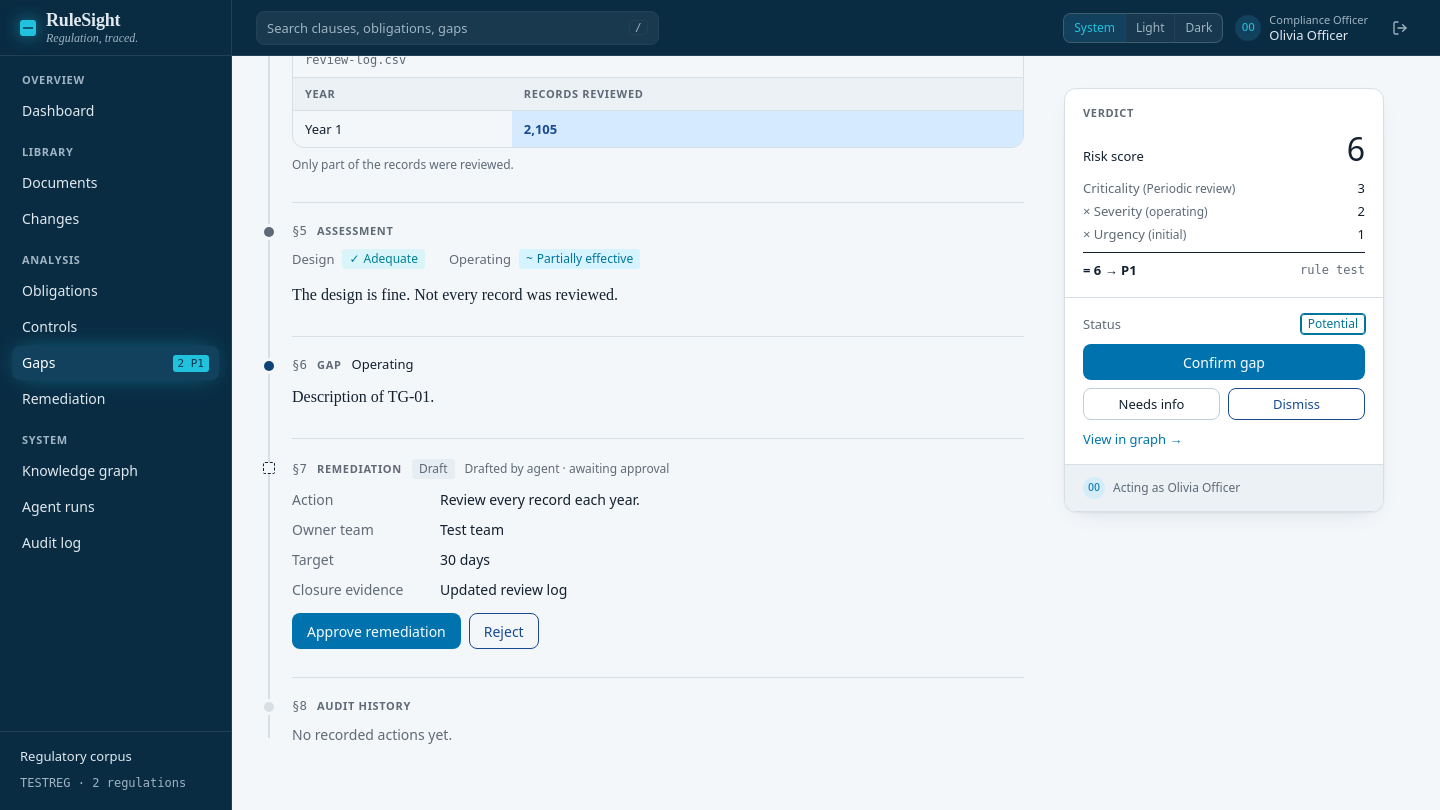
Test case: Gap trace › records an approval in the audit history under the acting user
(page scrolled)
Click the button "Approve remediation" at [376, 631], box [292, 613, 461, 649]
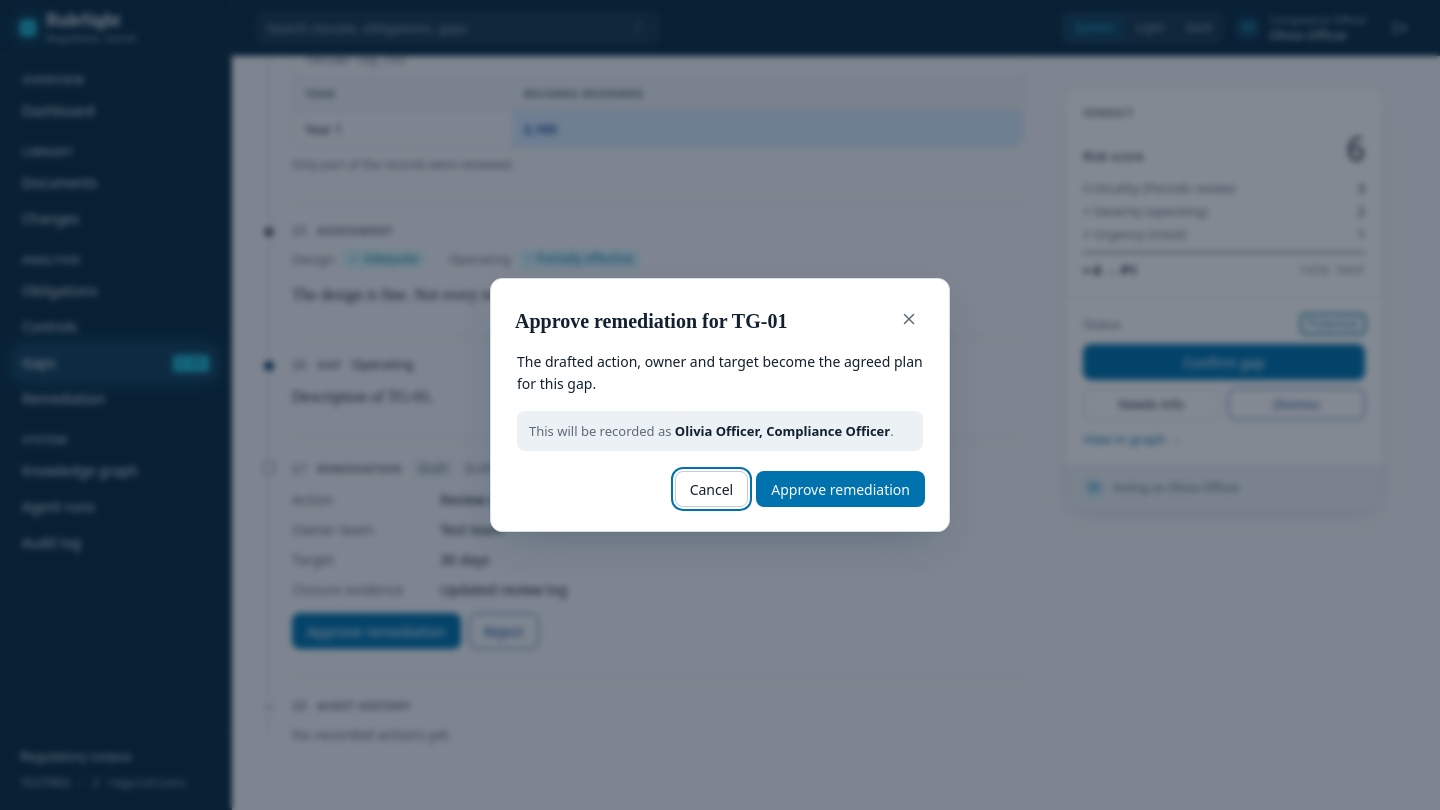
Click the button "Approve remediation" at [841, 489], box [756, 471, 925, 507]
(page scrolled)
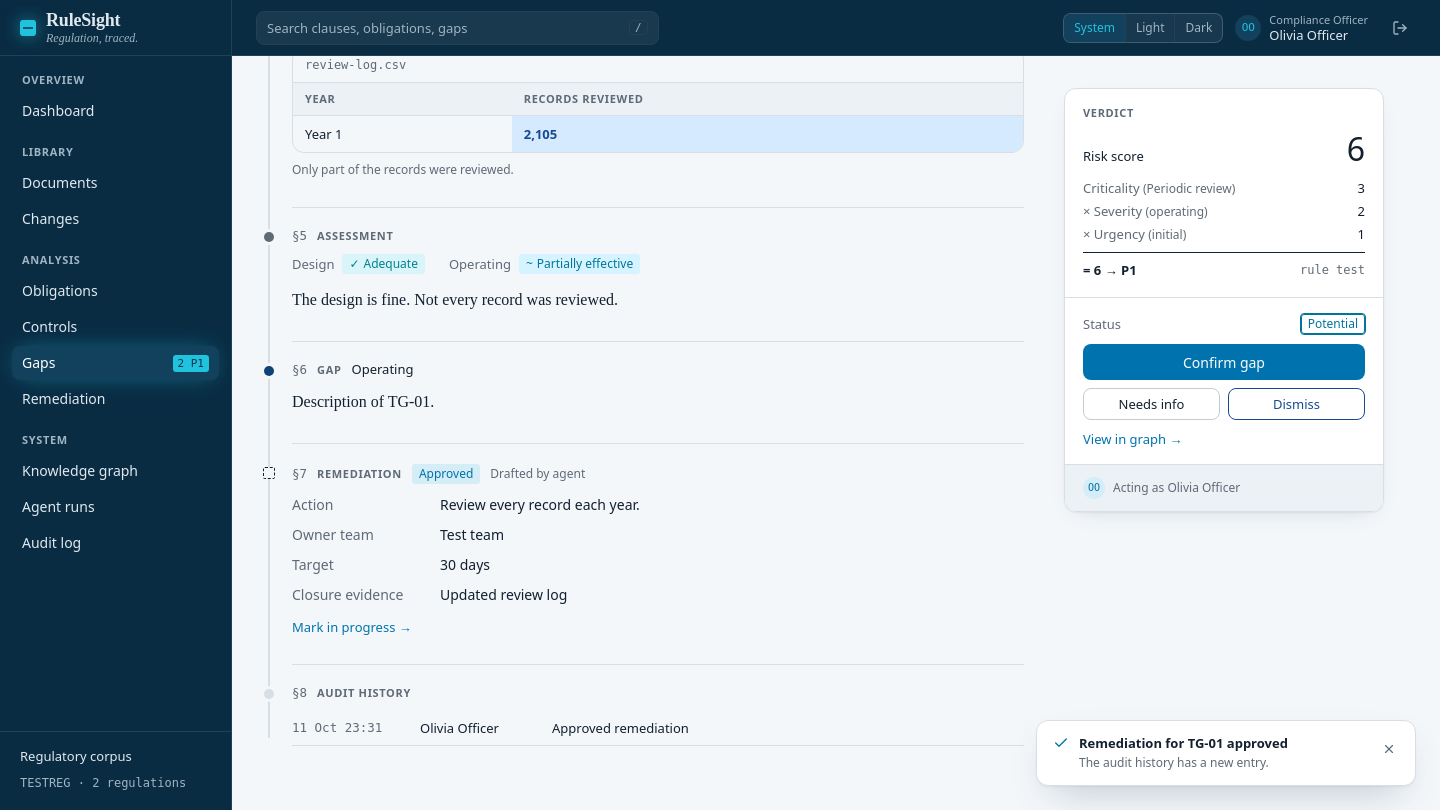
Expected: the text "Olivia Officer" next to "11 Oct 23:31" is shown, [420, 719, 499, 737]
Expected: the text "Remediation for TG-01 approved" is shown, [1079, 734, 1288, 752]
Expected: the text "Approved remediation" is shown, [552, 719, 689, 737]
